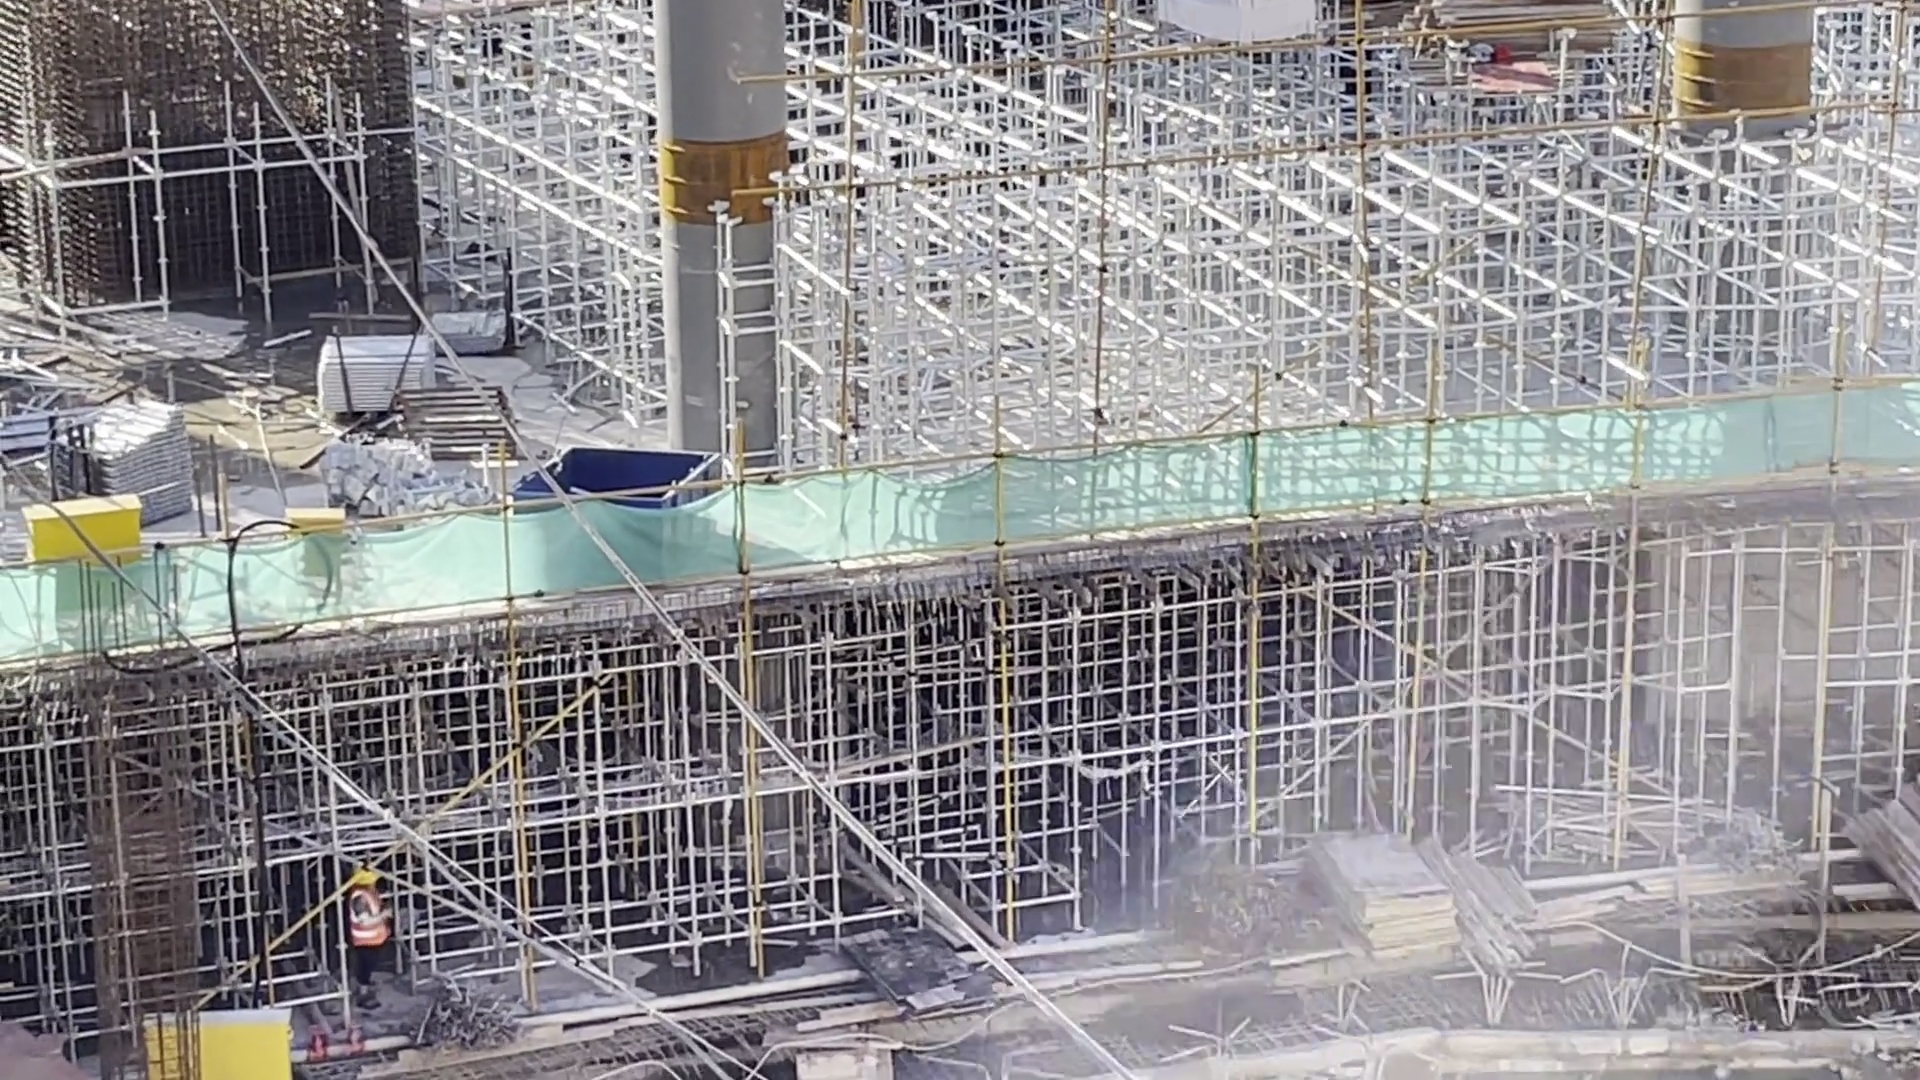board: (1323, 814, 1456, 952), (1462, 1, 1598, 64)
ebox: (14, 492, 148, 591), (129, 1026, 311, 1080), (306, 509, 358, 574)
helmet: (352, 866, 373, 886)
person: (341, 848, 399, 996)
scaffold: (71, 384, 191, 526), (301, 334, 459, 421)
vest: (349, 894, 381, 957)
wood: (1879, 802, 1920, 896)
